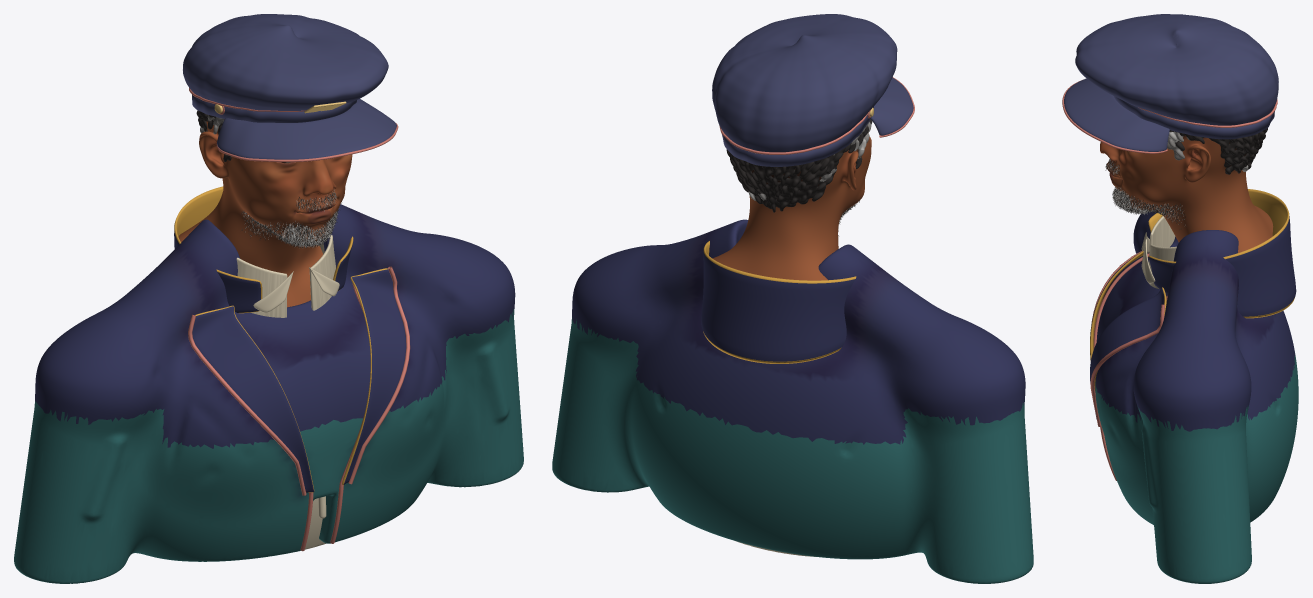
File: bram_bust.glb
The picture shows the model from 3 angles, left to right: view 1: azimuth 30°, elevation 25°; view 2: azimuth 150°, elevation 25°; view 3: azimuth 270°, elevation 25°; orthographic projection. The views are drawn at different scales.
Visible parts, largest first — view 1: Bram_Jacket, Bram_Cap_Crown, Bram_Head, Bram_Lapel_R, Bram_Cap_Peak, Bram_Lapel_L, Bram_Collar_Turned, Bram_Shirt, Bram_Cap_Band, Bram_Beard, Bram_Lapel_Piping_R, Bram_Lapel_Piping_L; view 2: Bram_Jacket, Bram_Cap_Crown, Bram_Collar_Turned, Bram_Head, Bram_Hair_Mass, Bram_Cap_Band, Bram_Cap_Peak; view 3: Bram_Jacket, Bram_Cap_Crown, Bram_Head, Bram_Collar_Turned, Bram_Cap_Peak, Bram_Lapel_L, Bram_Hair_Mass, Bram_Cap_Band, Bram_Beard, Bram_Shirt, Bram_Lapel_Piping_L, Bram_Lapel_R (+3 smaller).
Boxes of the visible parts, x1,y1,x2,y2 form: Bram_Jacket: (14,204,523,583); Bram_Cap_Crown: (183,14,388,110); Bram_Head: (178,121,352,307); Bram_Lapel_R: (192,305,314,492); Bram_Cap_Peak: (217,99,396,159); Bram_Lapel_L: (342,268,406,484); Bram_Collar_Turned: (174,186,353,313); Bram_Shirt: (236,235,335,549); Bram_Cap_Band: (192,94,356,122); Bram_Beard: (241,203,341,248); Bram_Lapel_Piping_R: (188,315,306,495); Bram_Lapel_Piping_L: (348,266,410,484); Bram_Jacket: (552,219,1033,583); Bram_Cap_Crown: (712,14,897,152); Bram_Collar_Turned: (701,241,856,363); Bram_Head: (712,133,871,280); Bram_Hair_Mass: (726,119,872,212); Bram_Cap_Band: (722,106,873,166); Bram_Cap_Peak: (871,77,913,135); Bram_Jacket: (1095,211,1298,583); Bram_Cap_Crown: (1075,14,1278,125); Bram_Head: (1100,135,1273,252); Bram_Collar_Turned: (1148,189,1296,318); Bram_Cap_Peak: (1064,78,1169,151); Bram_Lapel_L: (1090,287,1166,419); Bram_Hair_Mass: (1167,128,1267,174); Bram_Cap_Band: (1113,96,1274,139); Bram_Beard: (1112,187,1186,229); Bram_Shirt: (1149,216,1176,288); Bram_Lapel_Piping_L: (1090,304,1165,426); Bram_Lapel_R: (1090,251,1143,361).
Bounding box in the file's own units: 0.6854 × 0.6682 × 0.3148.
17 materials, 2 textured.
